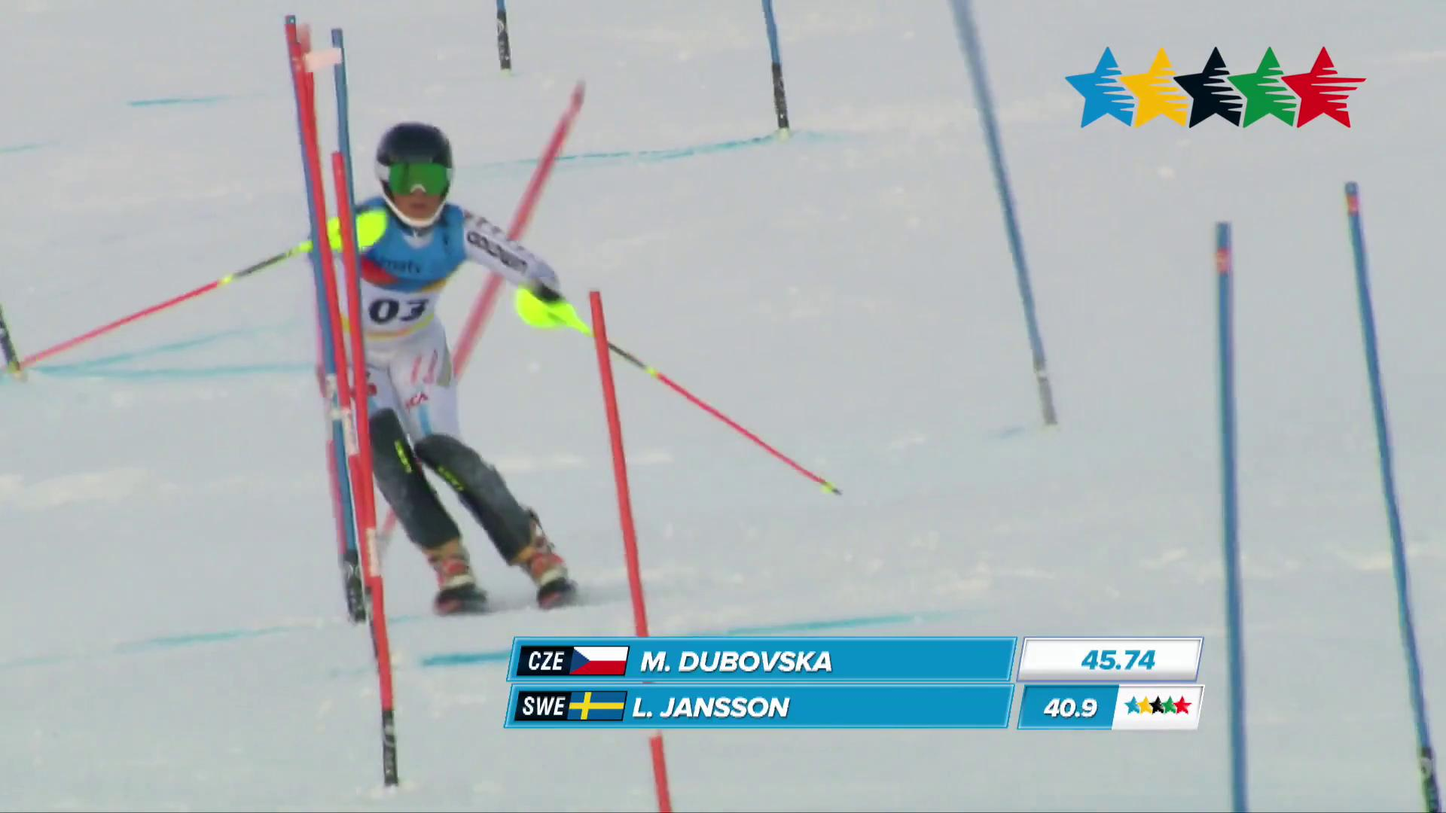gate: (1346, 181, 1440, 812), (948, 0, 1057, 426), (331, 138, 398, 786), (1213, 221, 1247, 812), (590, 290, 648, 636), (648, 731, 673, 812)
